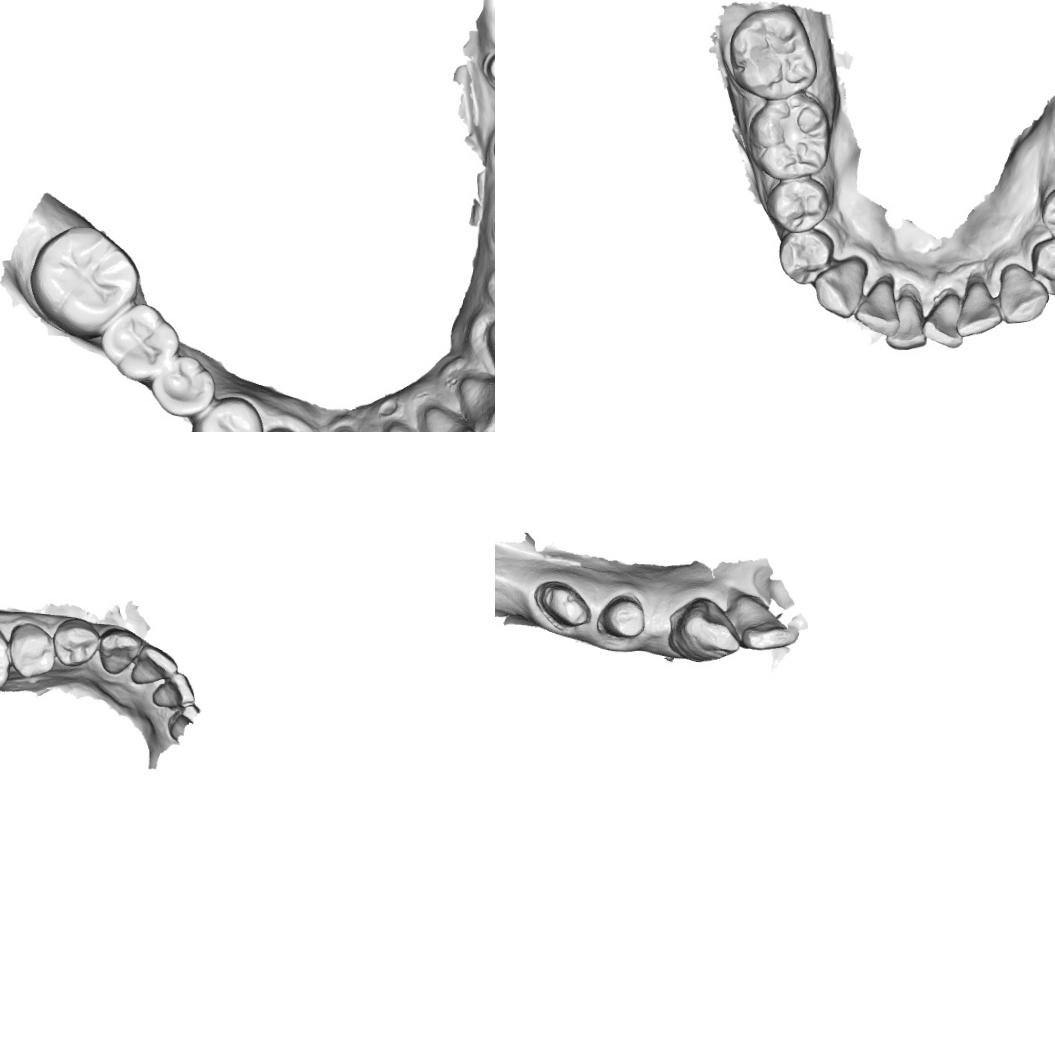canine: (665, 594, 742, 666), (812, 254, 869, 319), (997, 261, 1051, 325), (97, 626, 142, 678)
crown: (528, 575, 596, 635), (595, 589, 651, 648)
implant: (480, 47, 495, 93)
incisor: (728, 591, 800, 654), (854, 274, 902, 338), (954, 280, 1005, 337), (884, 294, 929, 352), (921, 291, 964, 350), (128, 642, 180, 688), (458, 371, 495, 432), (418, 403, 480, 432), (150, 671, 196, 708), (168, 702, 198, 744), (380, 417, 438, 432)
molar: (27, 222, 141, 336), (726, 2, 820, 104), (744, 93, 833, 182), (100, 302, 180, 383)
premolar: (150, 353, 216, 420), (766, 176, 832, 234), (776, 226, 836, 286), (6, 621, 56, 680), (190, 395, 262, 432), (52, 615, 100, 669), (1028, 236, 1055, 297), (1039, 185, 1055, 248)
